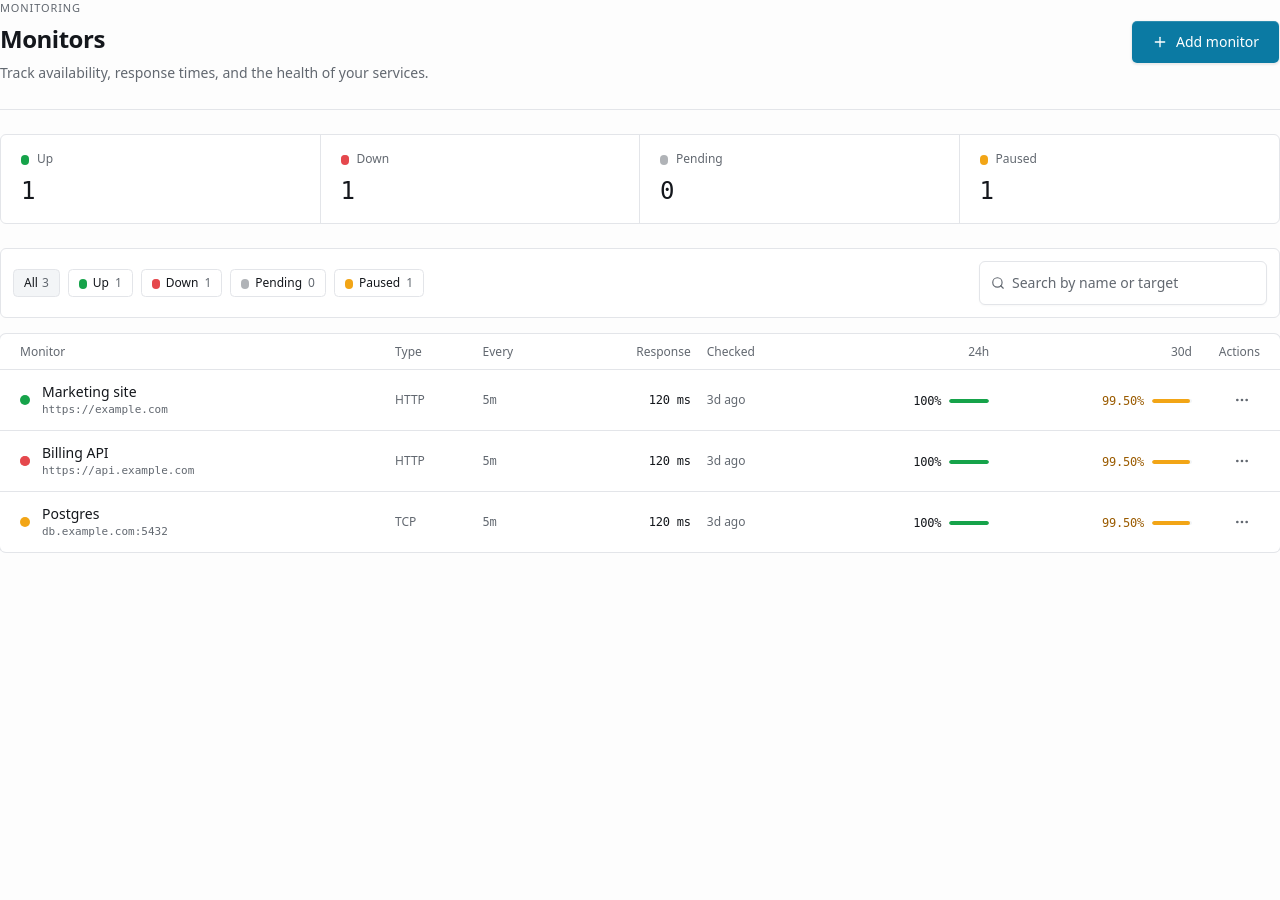
Test: Monitors list › preserves the list search when a monitor panel opens and closes
Type "Billing" into the search field named "Search monitors" at (1123, 283), box [979,261,1267,305]
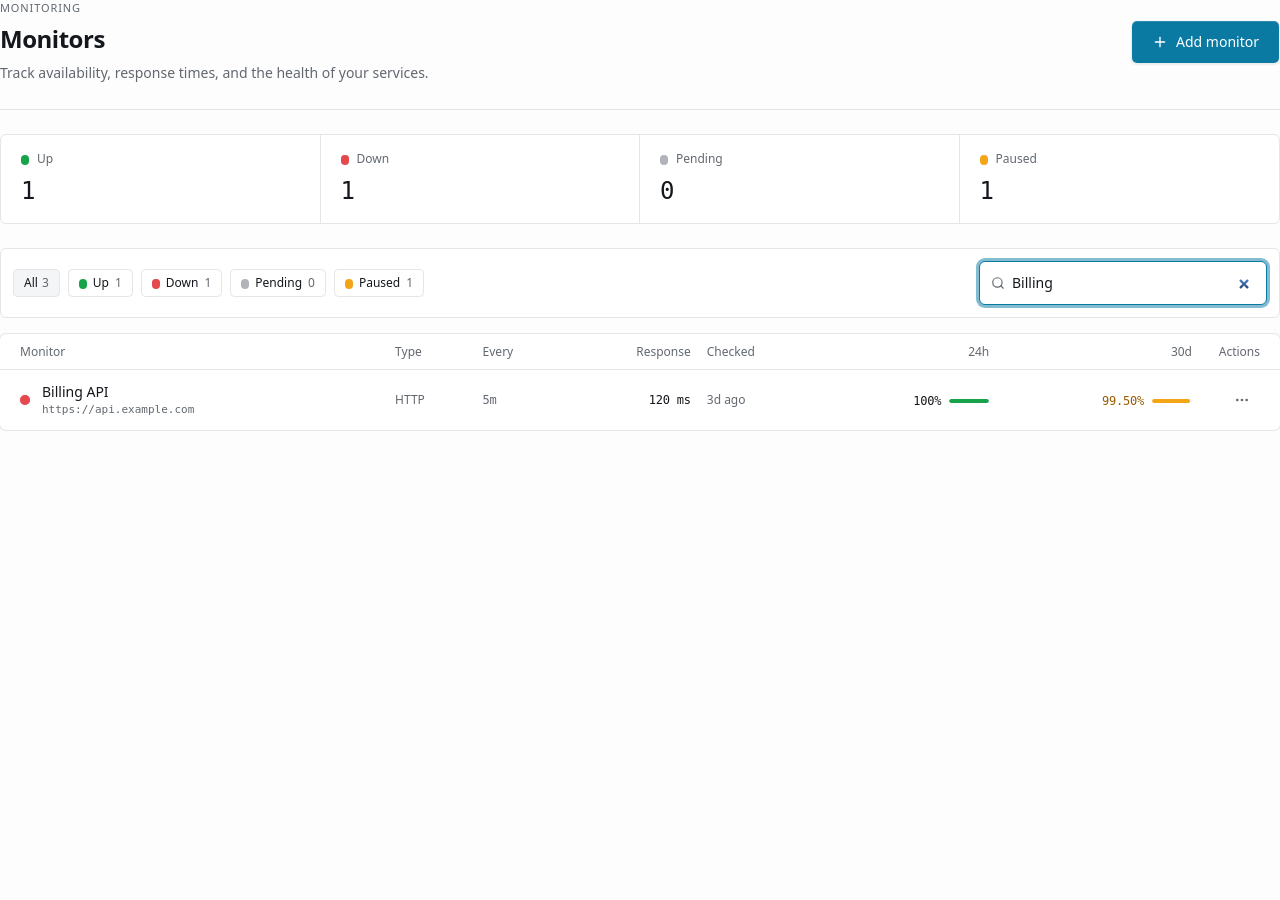
Click the button "Add monitor" at (1206, 42), box [1131,20,1279,64]
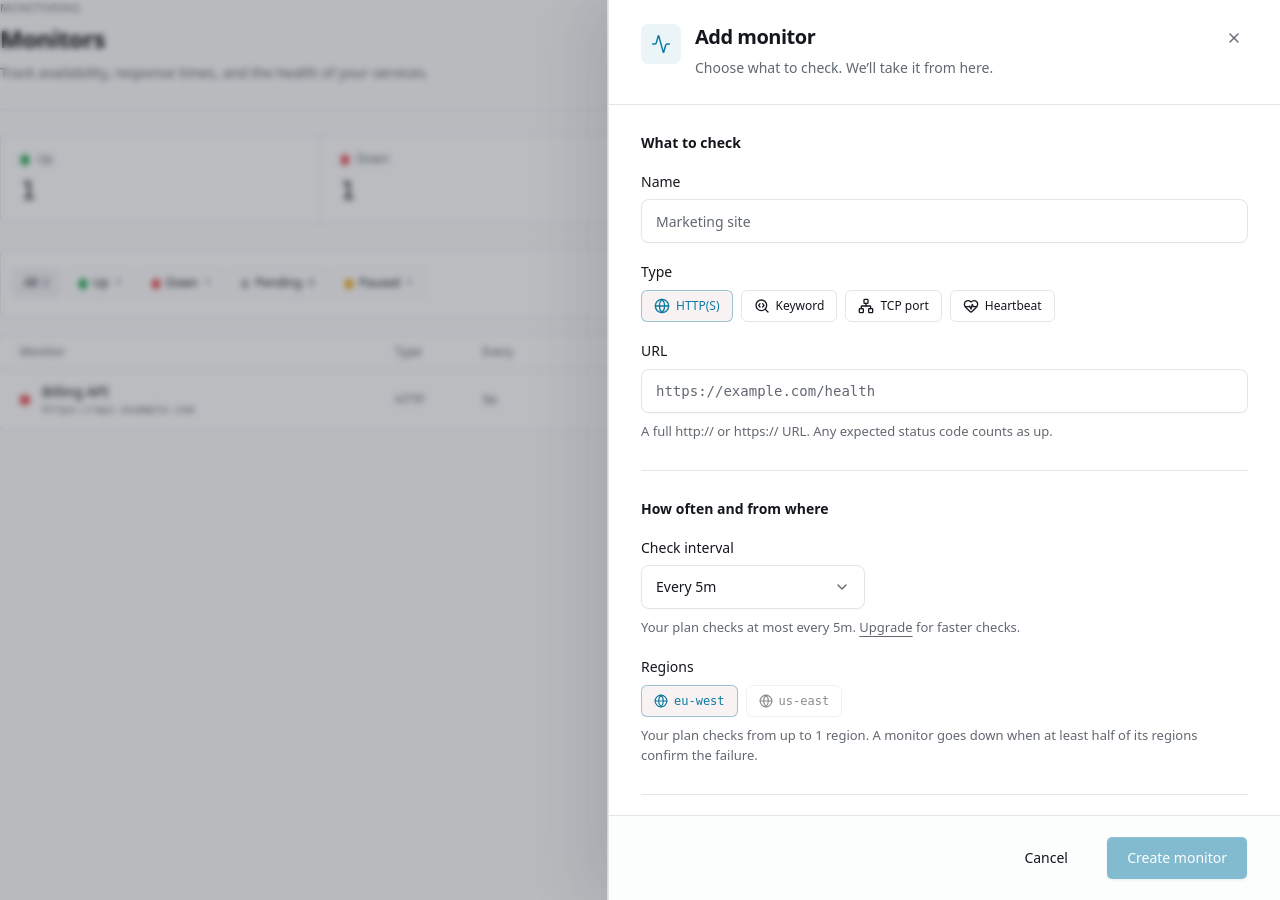
Click the button "Cancel" at (1046, 858), box [998,836,1094,880]
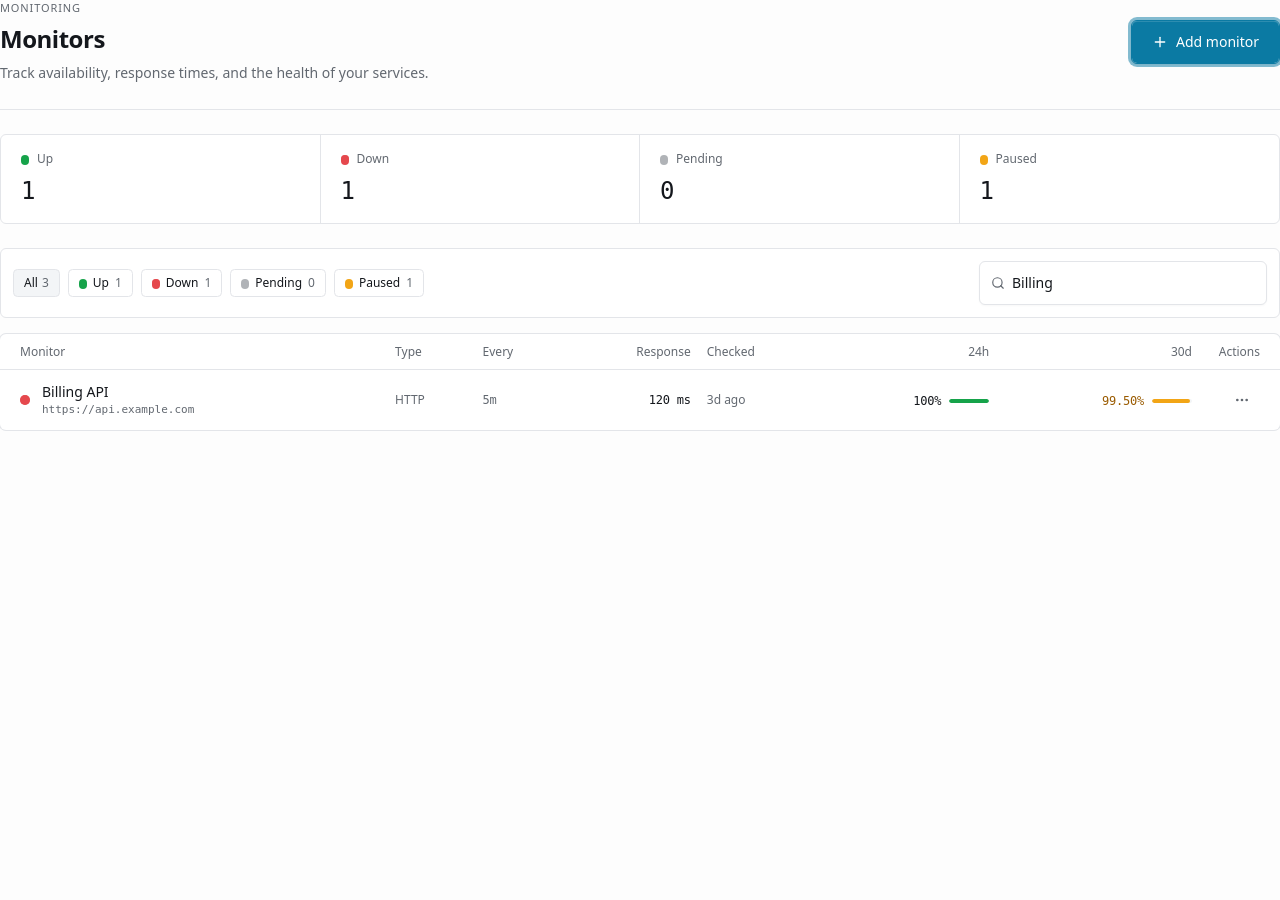
Check: the link "Billing API" is shown, box [42,382,109,401]
Check: the dialog is gone
